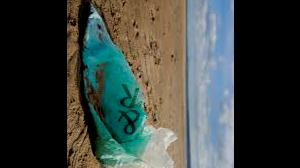Plastic: (79, 2, 176, 167)
